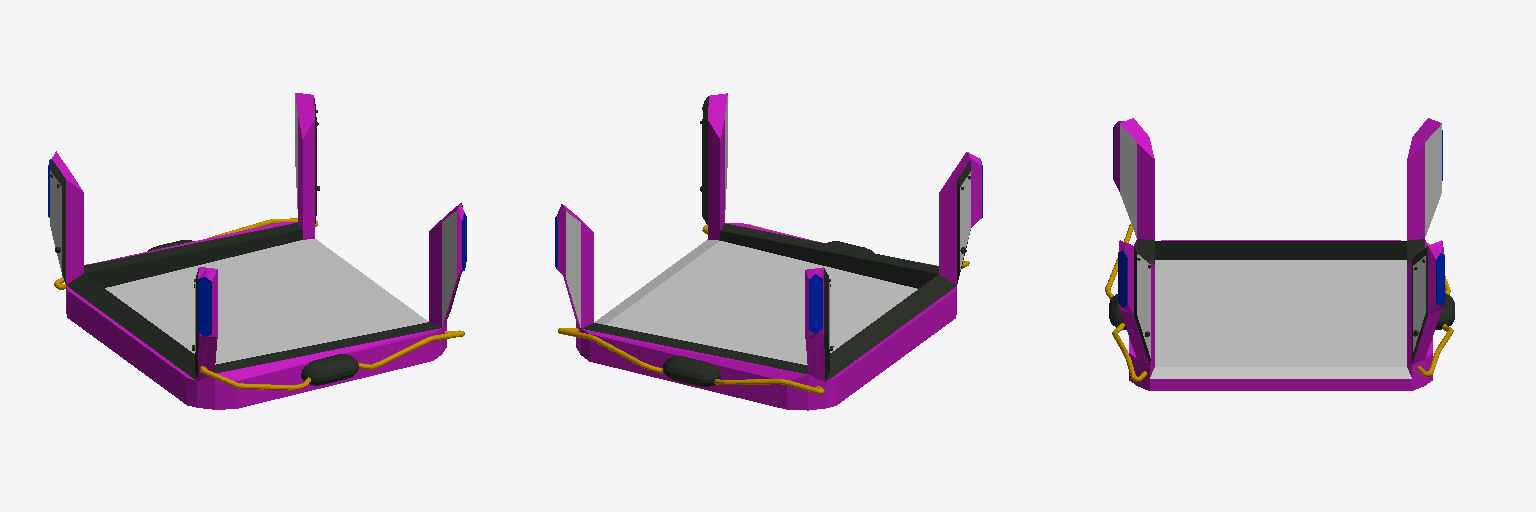
The model's file is Farm.obj.
3 renders of one model, left to right at view 1: azimuth 30°, elevation 25°; view 2: azimuth 150°, elevation 25°; view 3: azimuth 270°, elevation 25°, orthographic.
Visible parts, largest first — view 1: Cube, Mball, Plane.003, Plane.002; view 2: Cube, Mball, Plane, Plane.001; view 3: Cube, Mball.
Boxes of the visible parts, x1,y1,x2,y2 form: Cube: [48, 93, 466, 409]; Mball: [147, 240, 358, 385]; Plane.003: [200, 366, 310, 390]; Plane.002: [358, 330, 464, 369]; Cube: [555, 93, 982, 410]; Mball: [663, 241, 873, 386]; Plane: [558, 328, 663, 373]; Plane.001: [714, 379, 824, 394]; Cube: [1113, 118, 1444, 390]; Mball: [1109, 293, 1454, 329].
Bounding box in the file's own units: 2.28 × 1.19 × 2.53.